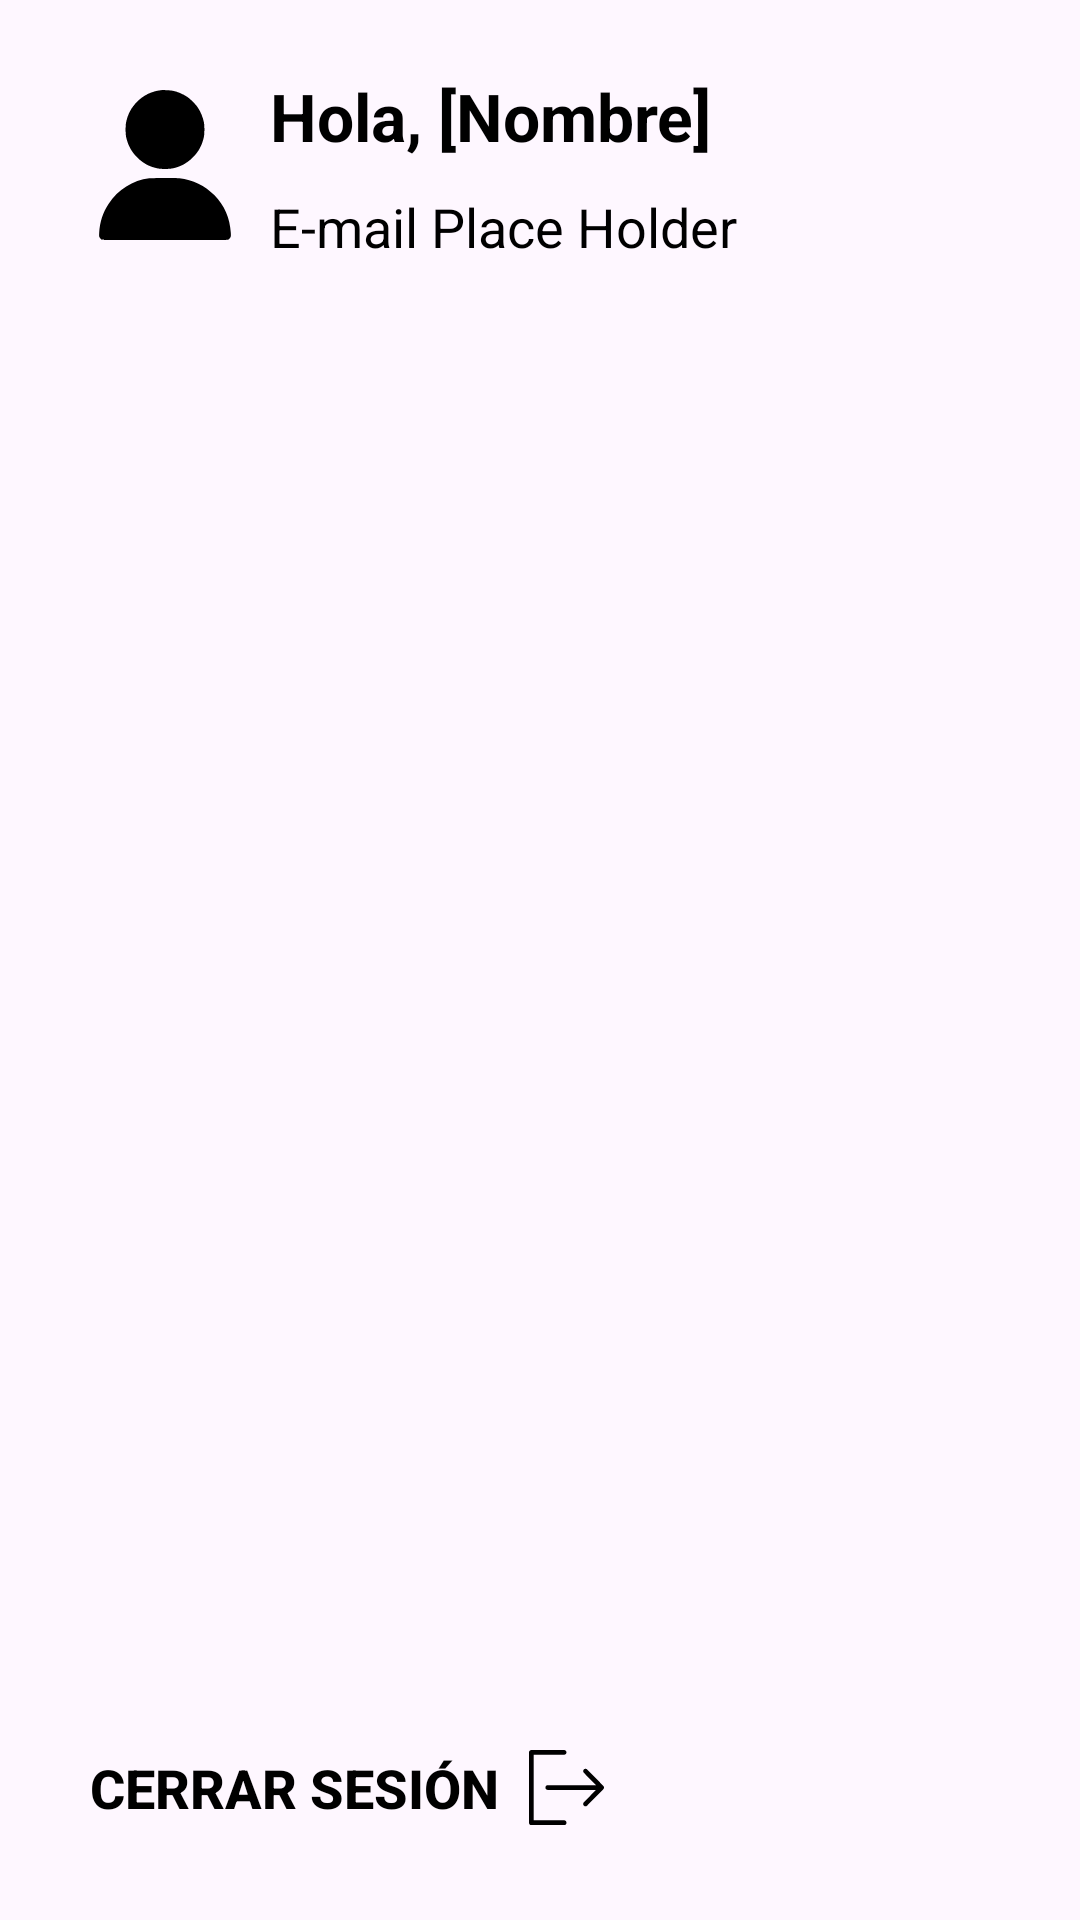

Icon click points for this 1080 x 1920 phone screenshot, format [x,y]:
profile: [165,165]
